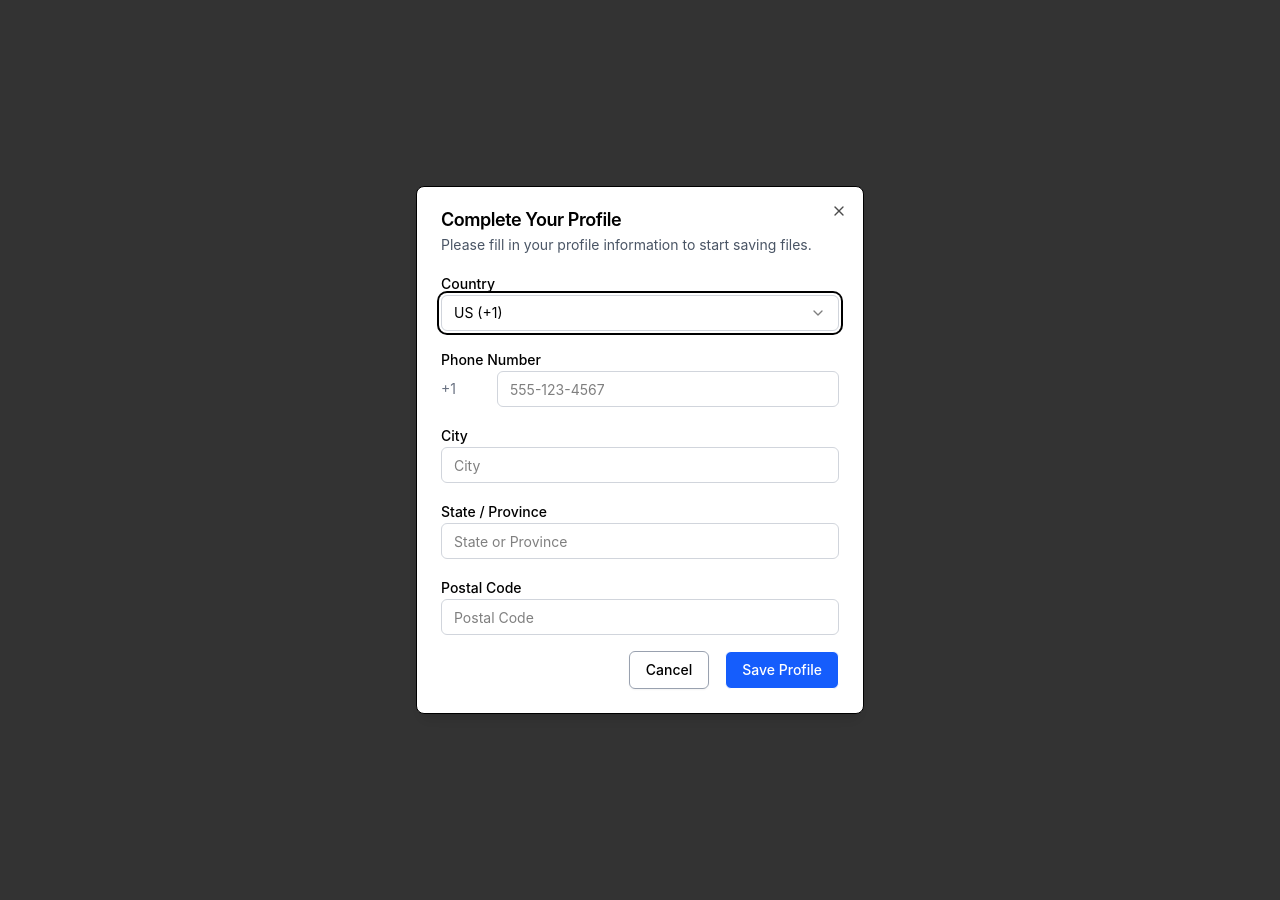
Test: CompleteProfile › shows validation errors when submitting empty form
Click the button "Save Profile": click(782, 670) [725,651,839,689]
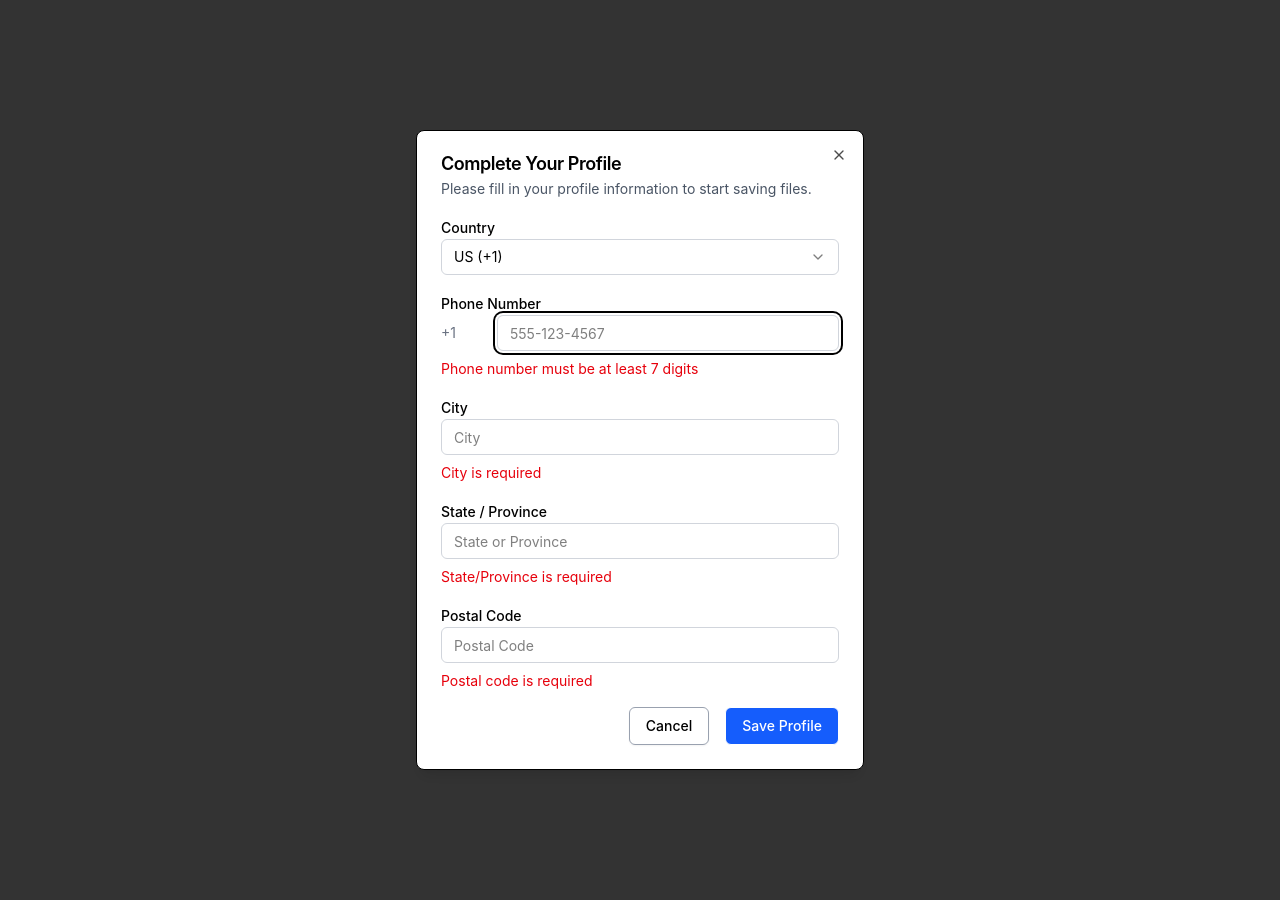
Check: the text "Phone number must be at least 7 digits" is shown, box [441,360,698,377]
Check: the text "City is required" is shown, box [441,464,541,481]
Check: the text "State/Province is required" is shown, box [441,568,612,585]
